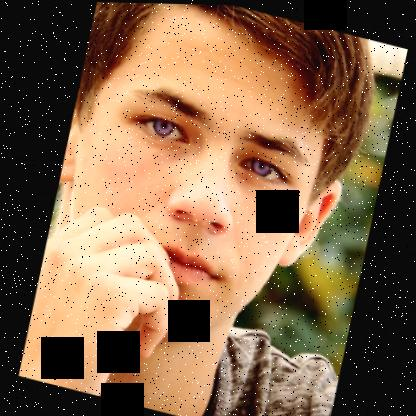Male: (27, 0, 376, 370)
